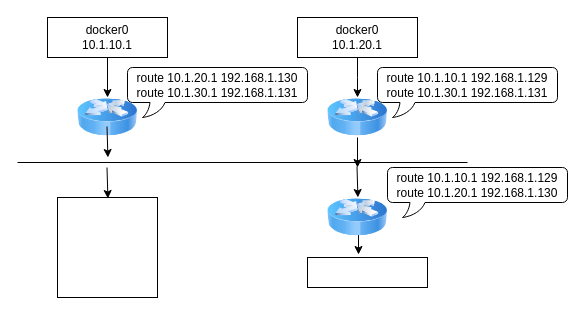
Some shapes in this 585 by 315 pixel diagram are drawn without their labels. Each missing label, with the box of its shape:
docker0 10.1.30.1: (306, 256, 428, 288)
kube master 192.168.1.129: (56, 196, 158, 298)
